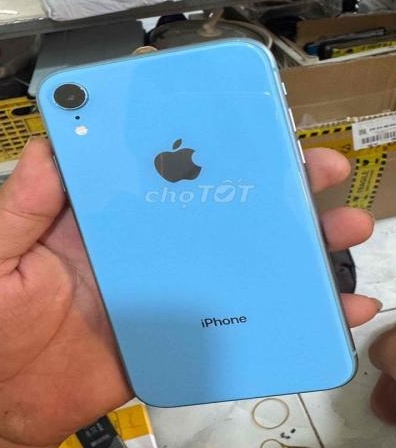scratch: (244, 79, 288, 112), (220, 26, 255, 52), (67, 72, 98, 101)
